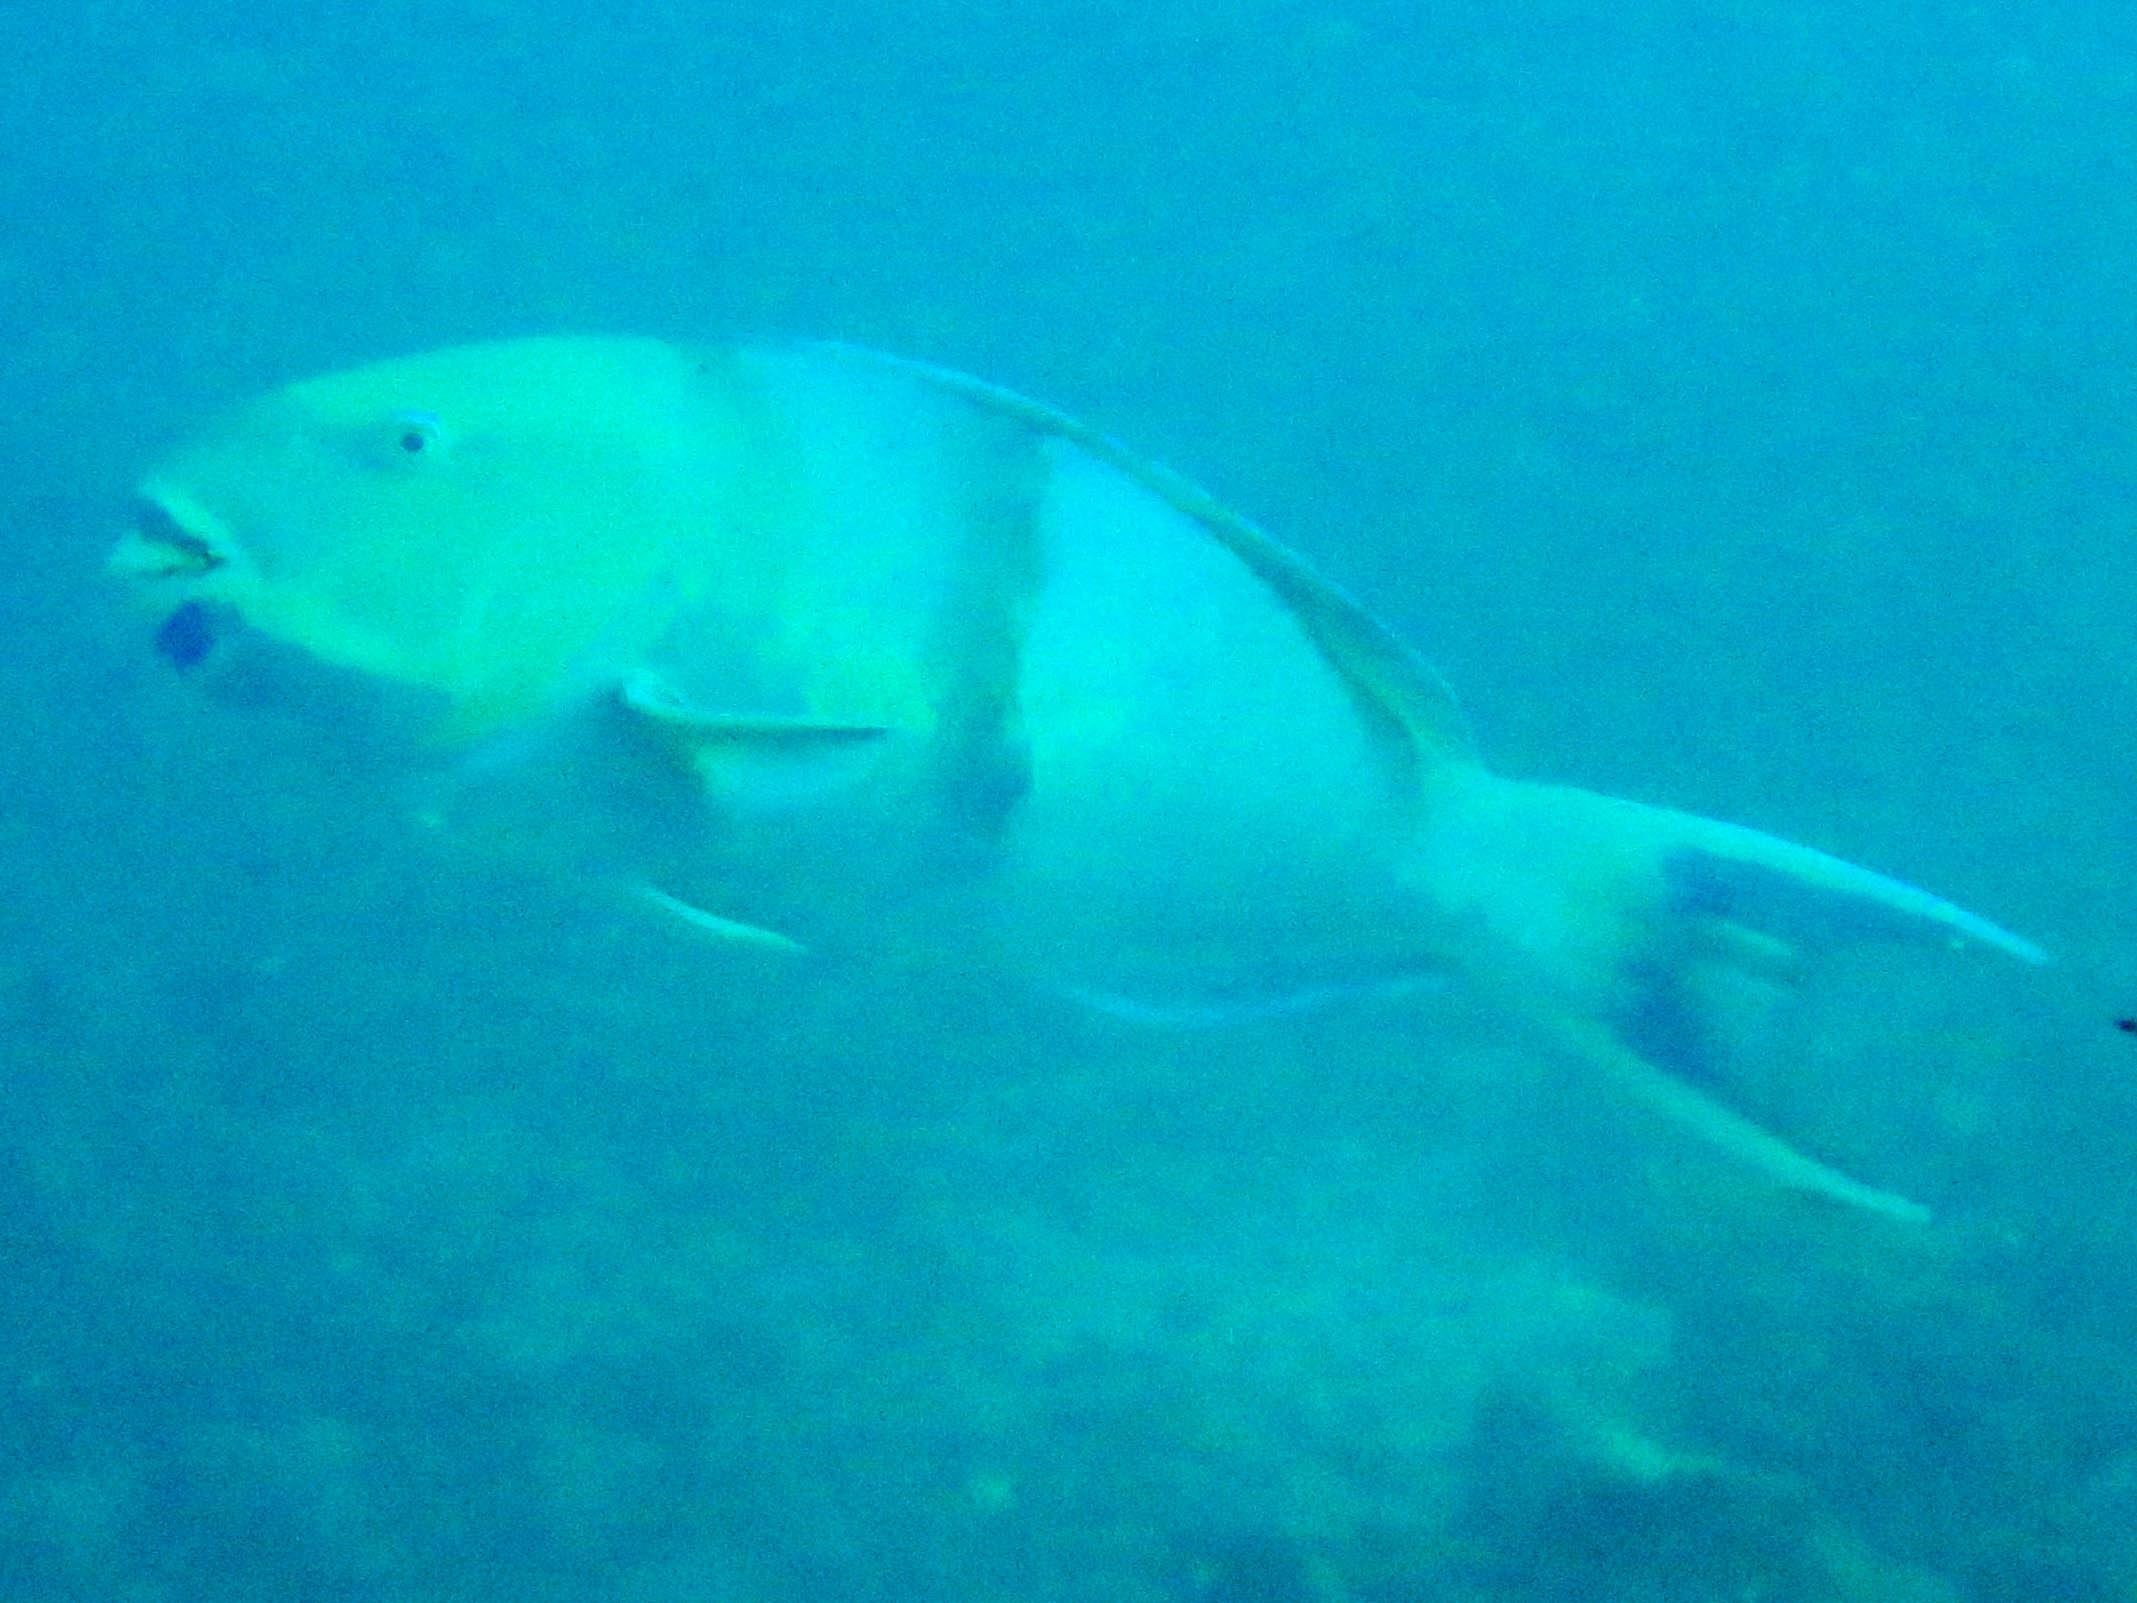Fish: (94, 286, 2056, 1253)
